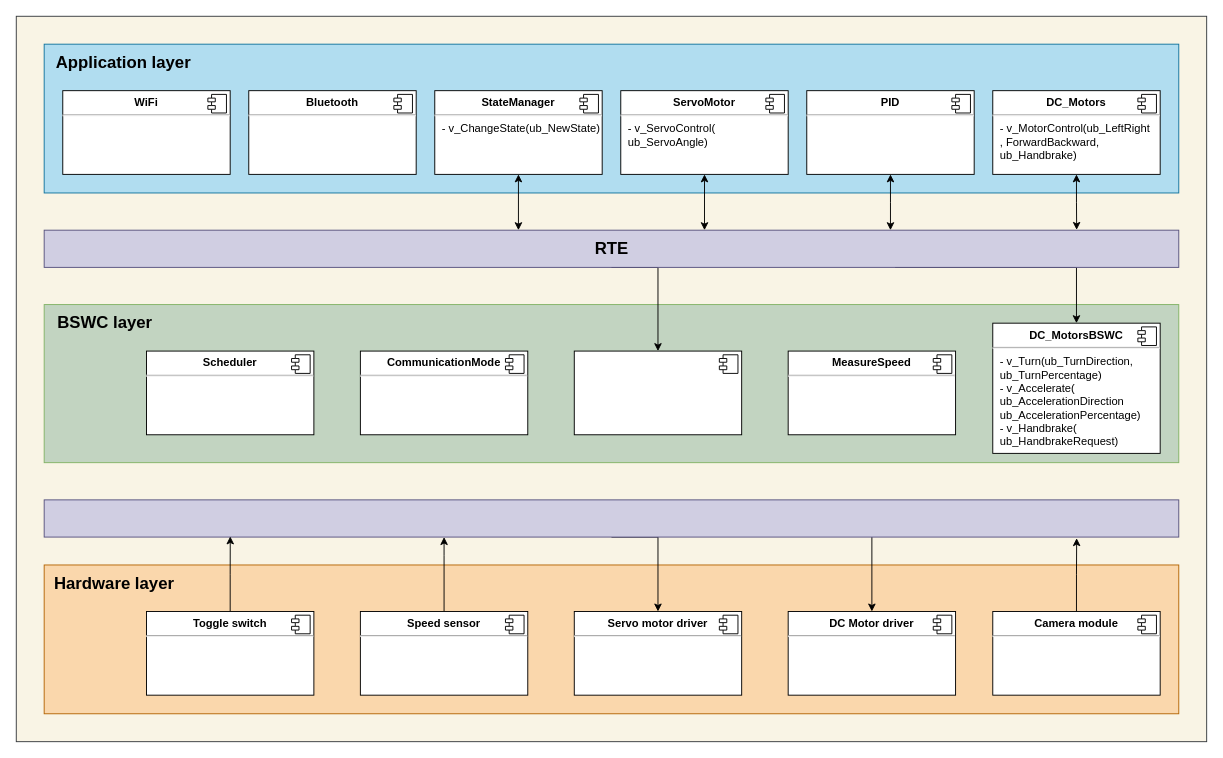
The diagram is 1223 pixels wide and 758 high, and some of its shapes have lost their labels. The centre of each missing label's shape, as x and y in pixels:
"MCAL" goes at (611,518).
"ServoBSWC - v_RotateServo( ub_RotationPercentage)" goes at (657,392).
